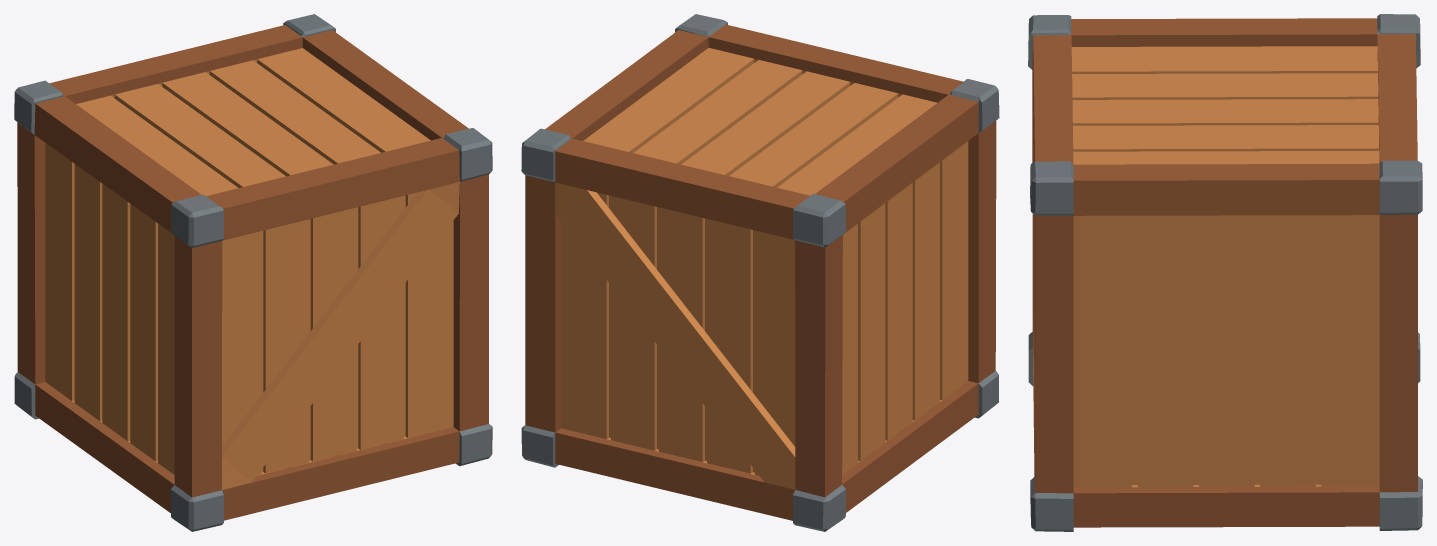
The picture shows the model from 3 angles, left to right: view 1: azimuth 30°, elevation 25°; view 2: azimuth 150°, elevation 25°; view 3: azimuth 270°, elevation 25°; orthographic projection. The views are drawn at different scales.
Parts seen in each view (by area): view 1: Box-Outside.001; view 2: Box-Outside.001; view 3: Box-Outside.001.
Part boxes in pixels (x1,y1,x2,y2): Box-Outside.001: (14,14,492,531); Box-Outside.001: (521,14,999,531); Box-Outside.001: (1028,14,1422,531).
Bounding box in the file's own units: 1.96 × 1.95 × 1.96.
